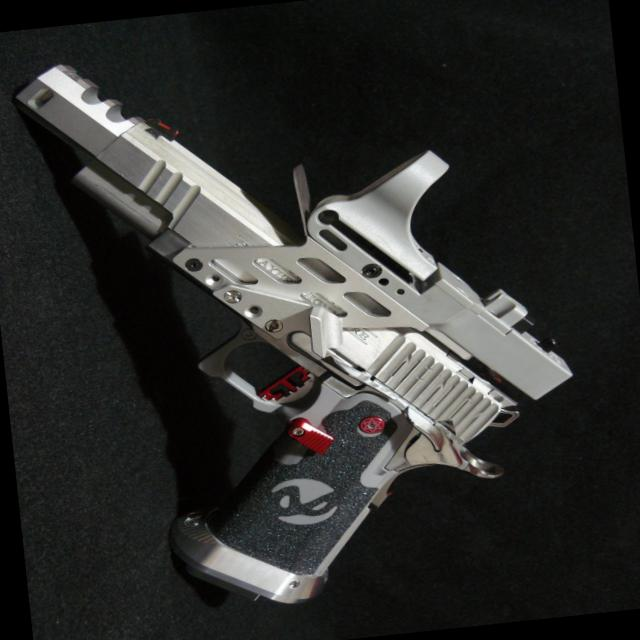handgun: (2, 12, 594, 630)
